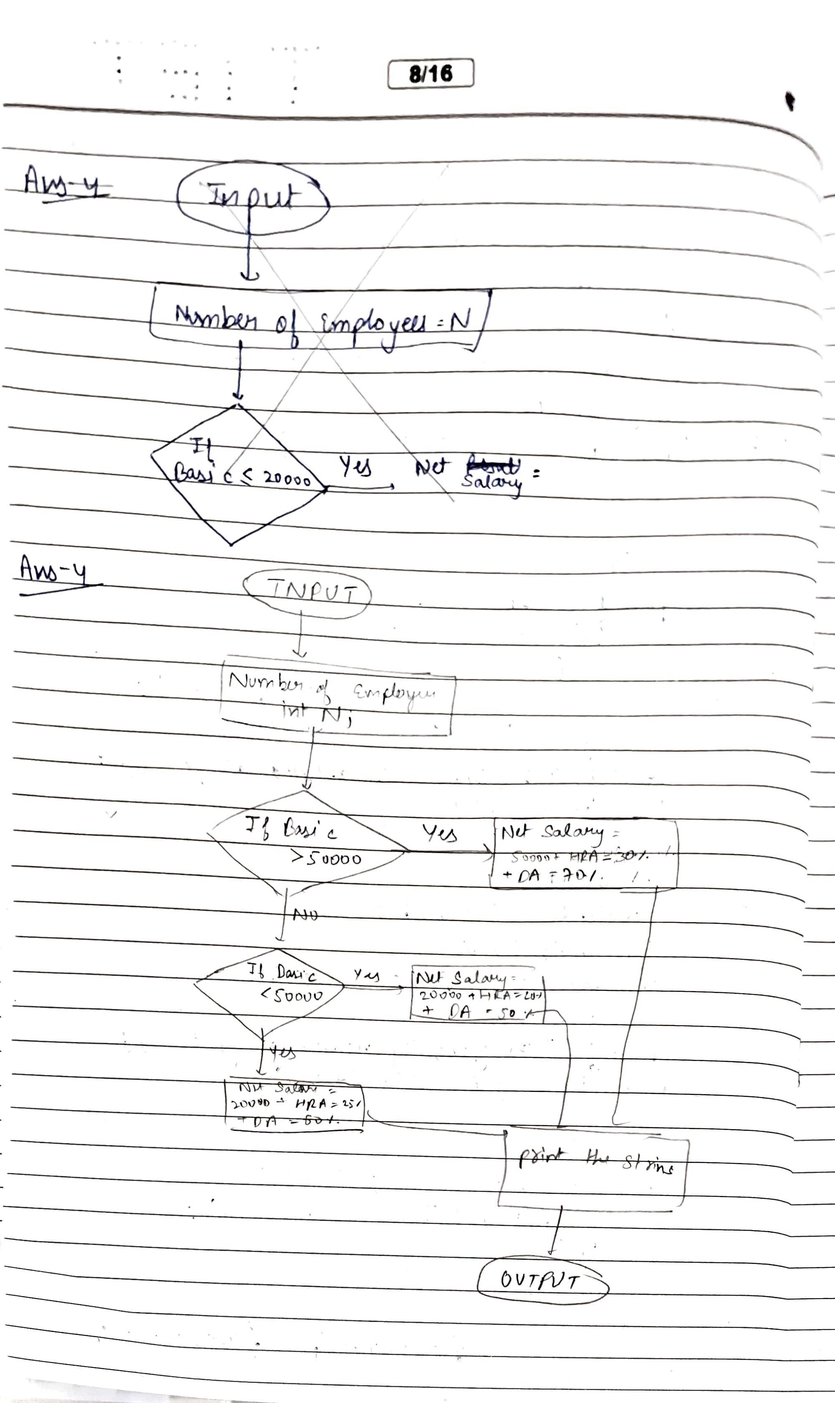cuttings: (10, 150, 544, 556)
